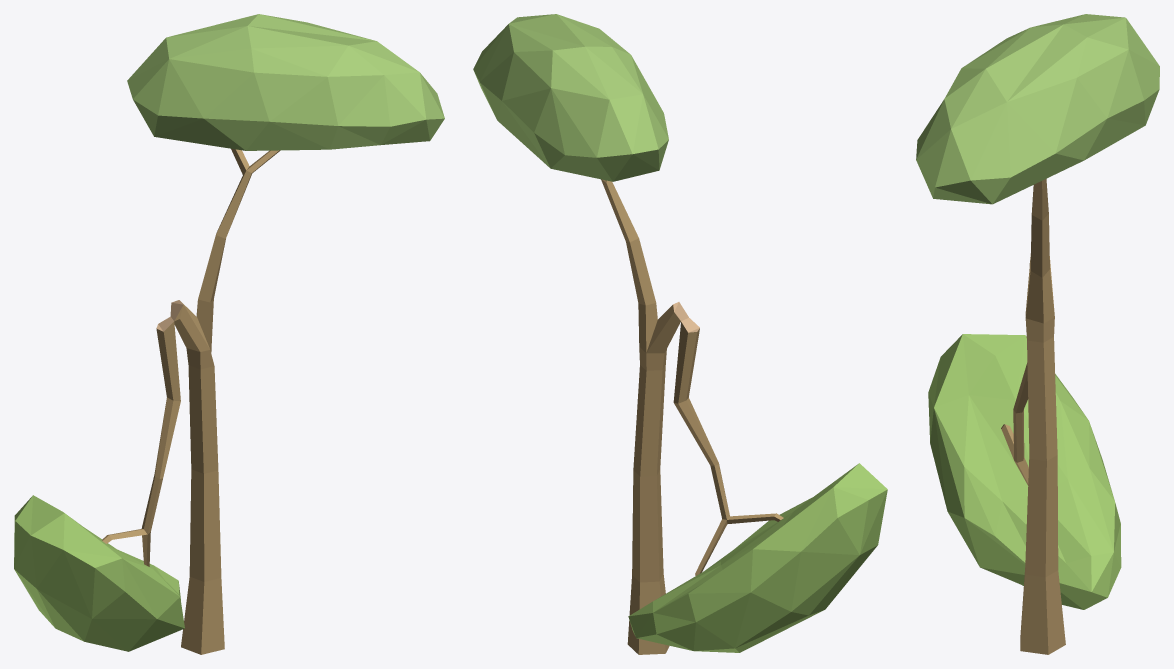
File: Acacia_Tree_crk_s_BT_01.fbx
The picture shows the model from 3 angles, left to right: view 1: azimuth 30°, elevation 25°; view 2: azimuth 150°, elevation 25°; view 3: azimuth 270°, elevation 25°; orthographic projection. The views are drawn at different scales.
Visible parts, largest first — view 1: Acacia_Tree_crk_s_BT_01; view 2: Acacia_Tree_crk_s_BT_01; view 3: Acacia_Tree_crk_s_BT_01.
Part boxes in pixels (<box>): Acacia_Tree_crk_s_BT_01: <box>14,14,444,654</box>; Acacia_Tree_crk_s_BT_01: <box>473,14,887,654</box>; Acacia_Tree_crk_s_BT_01: <box>916,14,1159,654</box>.
Size of the model in its own units: 441 by 619 by 211.
